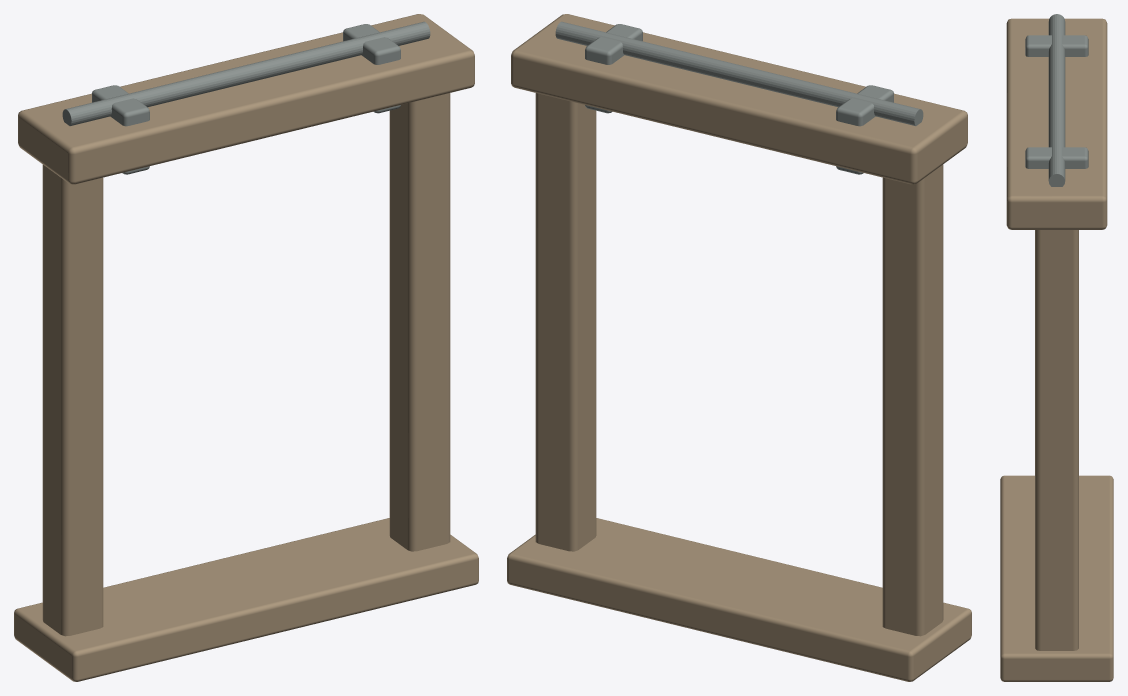
Rendered from coastal-saltworks-and-trade-port-coastal-saltworks-and-ef7d24f8__31395.glb.
3 views of the same model, side by side, from view 1: azimuth 30°, elevation 25°; view 2: azimuth 150°, elevation 25°; view 3: azimuth 270°, elevation 25° (orthographic). The views are drawn at different scales.
Visible parts, largest first — view 1: coastal-saltworks-and-trade-port-sack-closing-frame; view 2: coastal-saltworks-and-trade-port-sack-closing-frame; view 3: coastal-saltworks-and-trade-port-sack-closing-frame.
Boxes of the visible parts, left/top/right/bottom form: coastal-saltworks-and-trade-port-sack-closing-frame: left=14, top=14, right=478, bottom=681; coastal-saltworks-and-trade-port-sack-closing-frame: left=507, top=14, right=971, bottom=681; coastal-saltworks-and-trade-port-sack-closing-frame: left=1000, top=14, right=1113, bottom=681.
Size of the model in its own units: 0.68 by 0.873 by 0.18.
